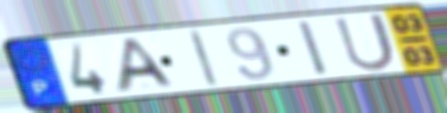4: (66, 40, 112, 97)
9: (224, 26, 277, 83)
A: (113, 36, 179, 95)
I: (186, 28, 222, 89), (295, 19, 332, 78)
U: (332, 11, 399, 74)
